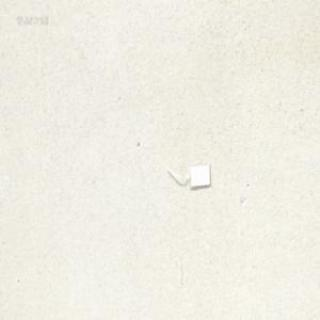LuggageTagtrack_idkeyframe: (166, 161, 212, 189)
